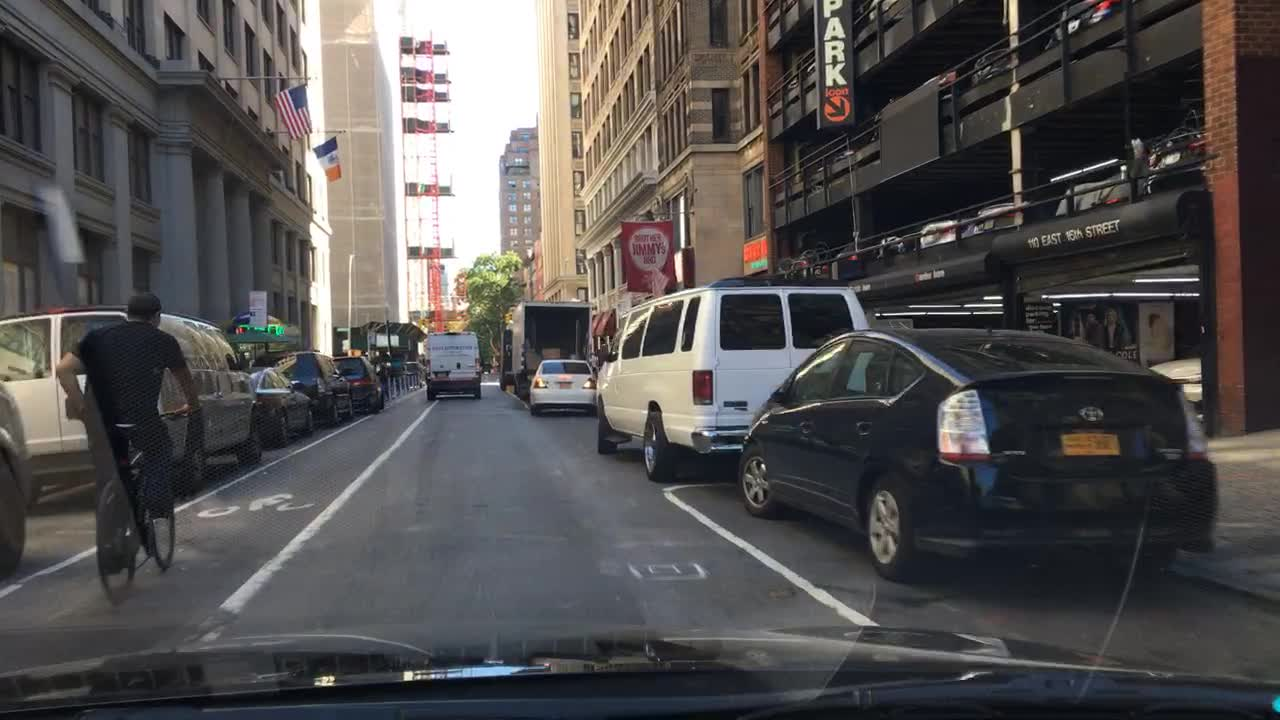bike: (62, 394, 212, 603)
car: (737, 328, 1221, 589), (592, 284, 870, 475), (0, 305, 264, 501), (253, 354, 357, 423), (242, 365, 319, 456), (0, 380, 33, 586), (528, 359, 605, 417), (332, 355, 386, 411)
person: (370, 349, 392, 404), (389, 350, 402, 399)
rider: (55, 291, 204, 556)
traffic sign: (246, 290, 264, 329)
truck: (511, 298, 595, 399), (428, 328, 481, 400), (496, 325, 512, 393)
